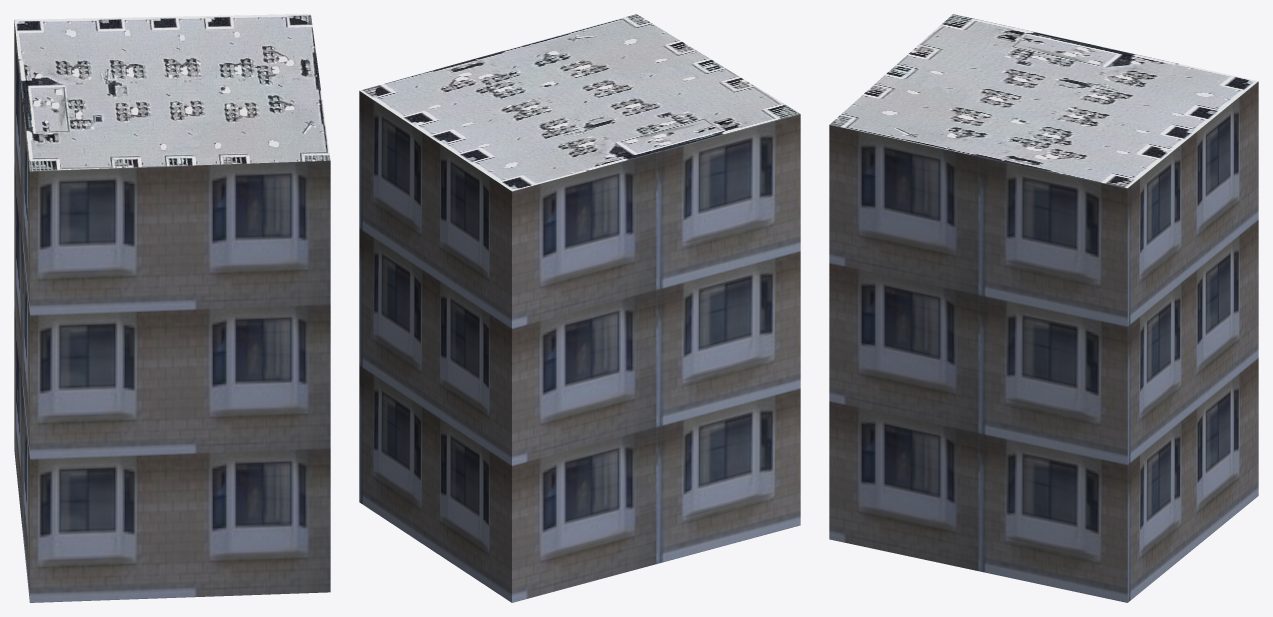
The model's file is ResTex__4051.fbx.
3 renders of one model, left to right at view 1: azimuth 30°, elevation 25°; view 2: azimuth 150°, elevation 25°; view 3: azimuth 270°, elevation 25°, orthographic. The views are drawn at different scales.
Visible parts, largest first — view 1: CityEngineMaterial_3_m, CityEngineMaterial_m; view 2: CityEngineMaterial_3_m, CityEngineMaterial_m; view 3: CityEngineMaterial_3_m, CityEngineMaterial_m.
Part boxes in pixels (x1,y1,x2,y2): CityEngineMaterial_3_m: (14,20,330,602); CityEngineMaterial_m: (14,14,330,171); CityEngineMaterial_3_m: (359,91,800,602); CityEngineMaterial_m: (360,14,800,191); CityEngineMaterial_3_m: (829,81,1258,602); CityEngineMaterial_m: (829,14,1257,188).
Size of the model in its own units: 8.11 by 9 by 8.44.
2 materials, 2 textured.
